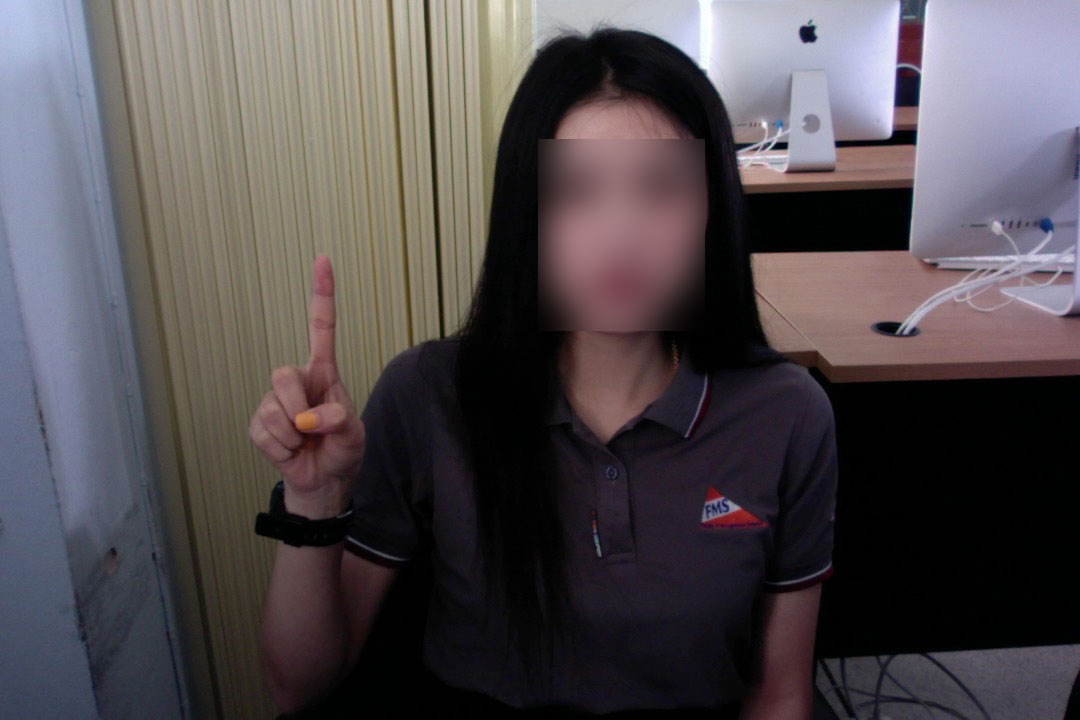dor: (238, 239, 374, 502)
